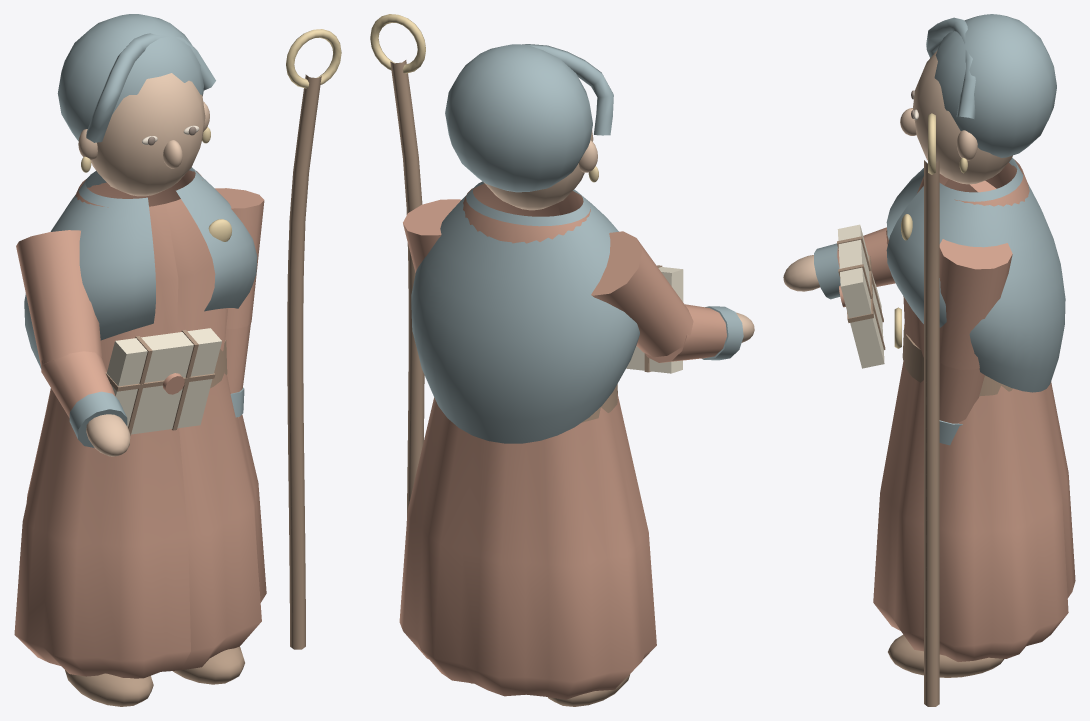
Rendered from character-maren.glb.
3 views of the same model, side by side, from view 1: azimuth 30°, elevation 25°; view 2: azimuth 150°, elevation 25°; view 3: azimuth 270°, elevation 25° (orthographic). The views are drawn at different scales.
Parts seen in each view (by area): view 1: Group_1, Group_32, Group_57, Group_17, Group_19, Group_23, Group_25; view 2: Group_1, Group_32, Group_17, Group_19, Group_23, Group_57; view 3: Group_1, Group_32, Group_23, Group_57, Group_19, Group_25, Group_17.
Boxes of the visible parts, x1,y1,x2,y2 form: Group_1: [14, 29, 341, 706]; Group_32: [57, 14, 215, 196]; Group_57: [105, 328, 221, 435]; Group_17: [16, 230, 102, 366]; Group_19: [41, 351, 130, 456]; Group_23: [215, 188, 264, 329]; Group_25: [225, 323, 250, 418]; Group_1: [370, 14, 656, 706]; Group_32: [445, 44, 613, 210]; Group_17: [591, 231, 693, 357]; Group_19: [645, 304, 754, 362]; Group_23: [403, 199, 460, 272]; Group_57: [626, 265, 683, 373]; Group_1: [873, 113, 1075, 706]; Group_32: [900, 14, 1056, 184]; Group_23: [939, 239, 1012, 369]; Group_57: [837, 224, 885, 368]; Group_19: [783, 227, 895, 299]; Group_25: [939, 362, 984, 445]; Group_17: [886, 179, 996, 244].
Size of the model in its own units: 1.01 by 1.97 by 0.8256.
